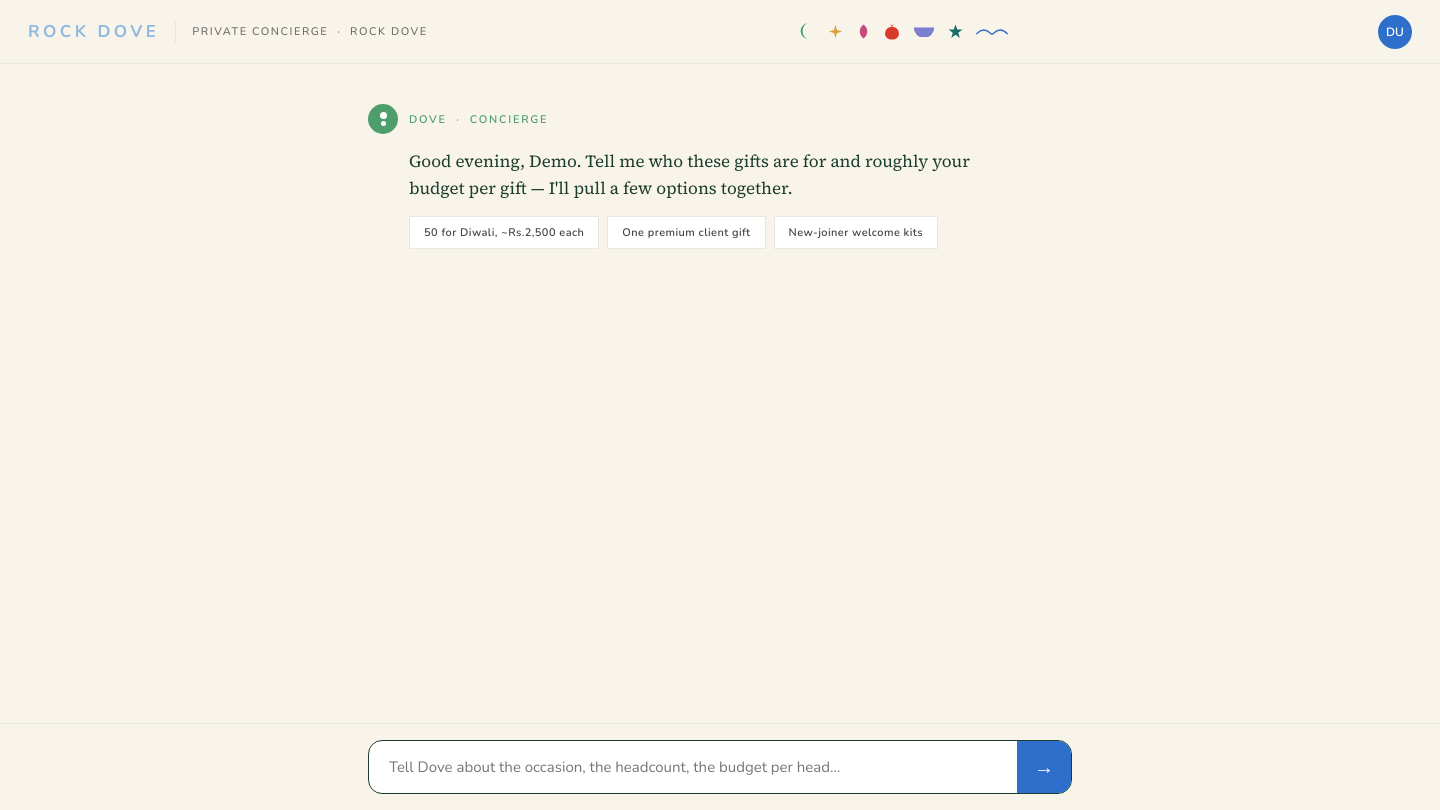
Test case: core chat journey › qtyAt: earlier cards keep their price after headcount changes
Expected: the text "Good" is shown, [409,149,974,200]
Step 1. Type "gifts for 150 people under 5000, show options" into the field named "Message Dove" → (693, 767), box [369,741,1017,793]
Then press Enter
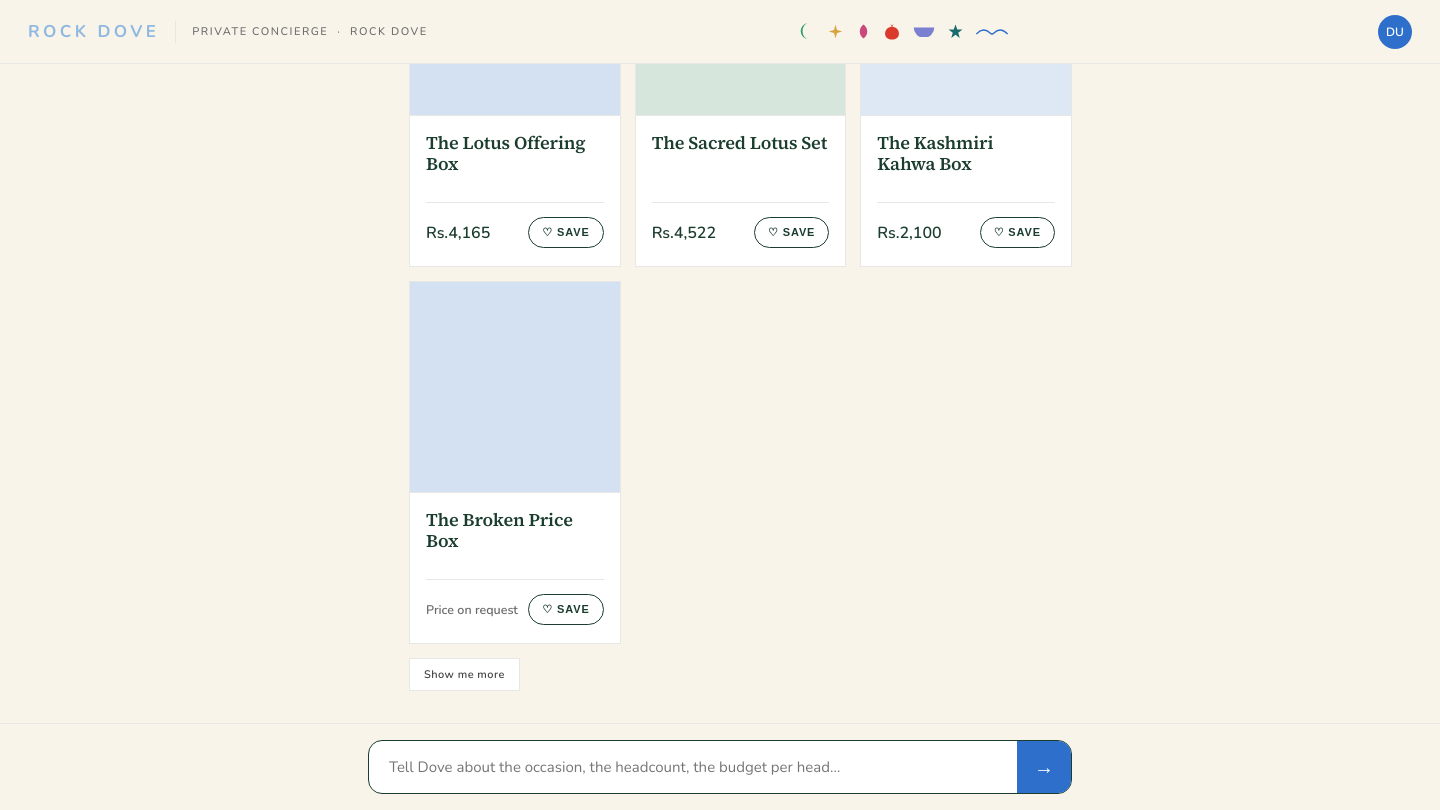
Expected: the text "Rs.4,165" is shown, [426,222,490,244]
Step 2. Type "actually make it 50 units" into the field named "Message Dove" → (693, 767), box [369,741,1017,793]
Then press Enter
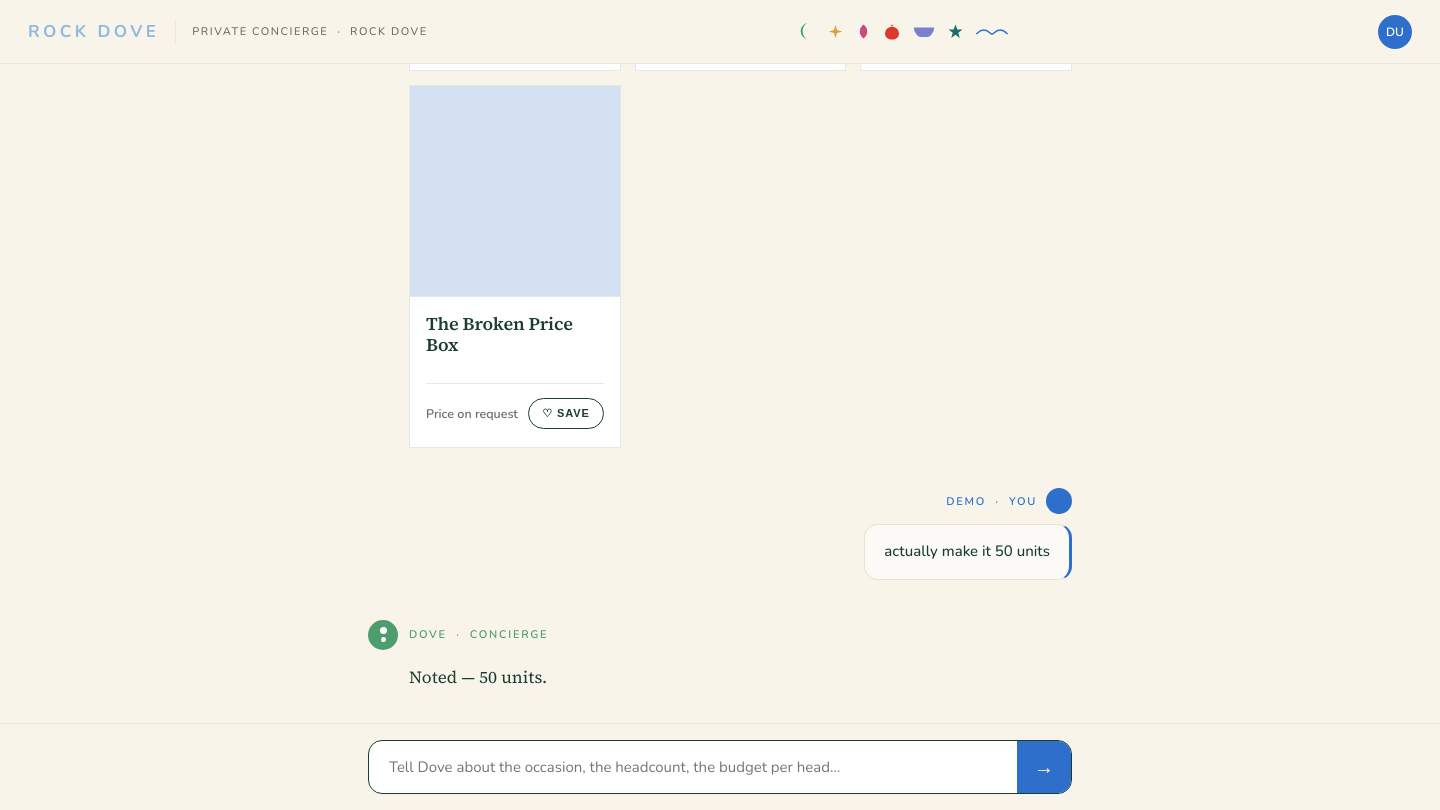
Expected: the text "Noted — 50 units." is shown, [409,665,547,689]
